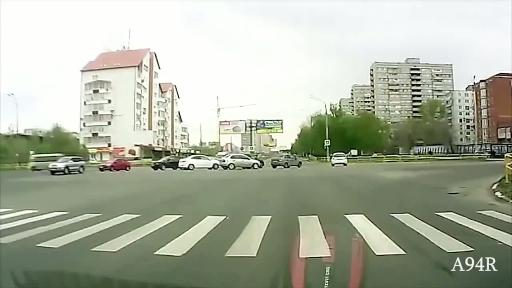Accident: (145, 122, 312, 206)
